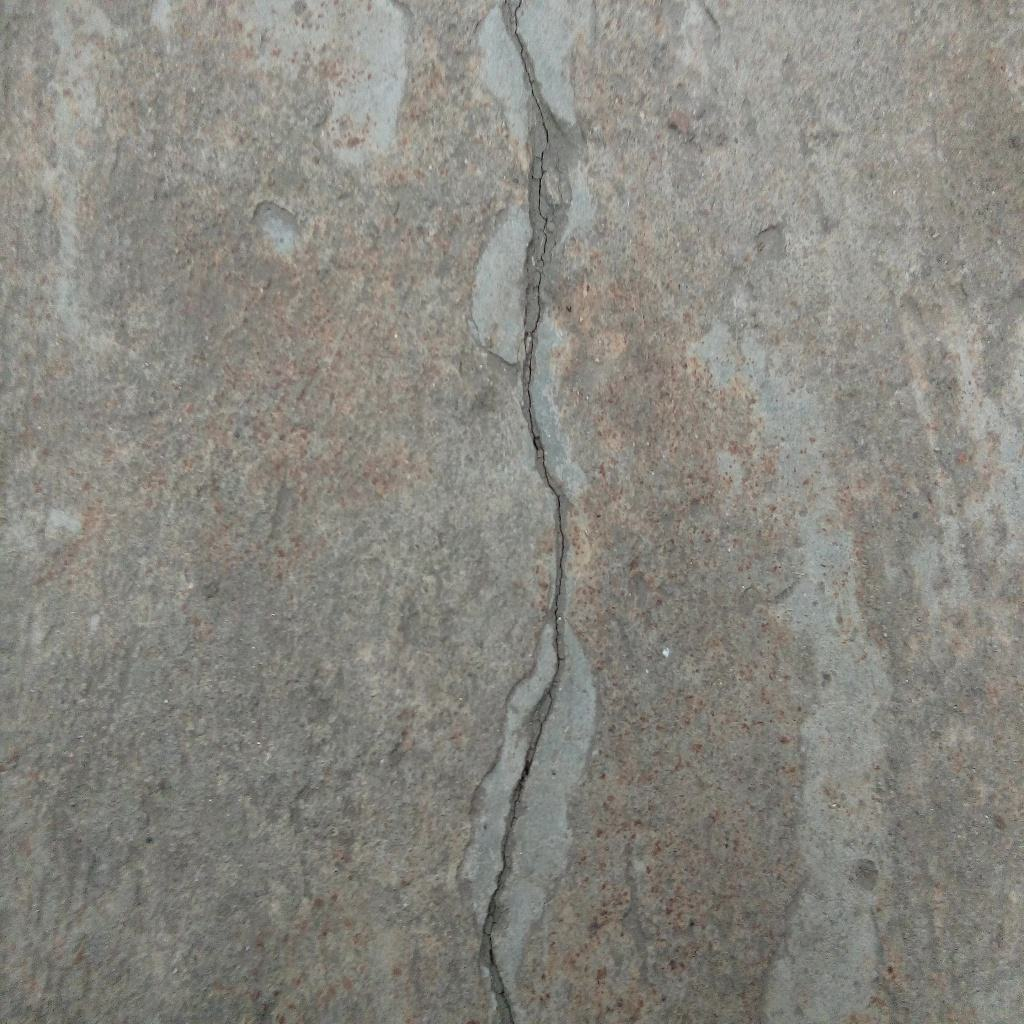Crack: (477, 1, 567, 1024)
